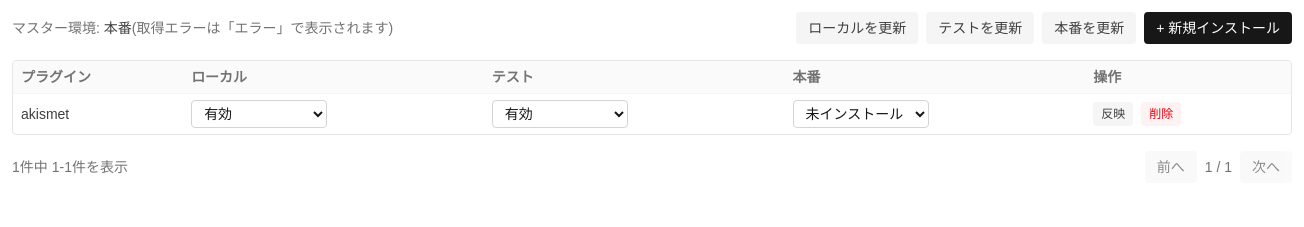
Test case: PluginThemeComparisonTable › 変更が無い状態で反映を押すとエラーを表示し、確認ダイアログを出さない
What coordinates should you click on to do the following:
click the button "反映"
I would click on:
 (1113, 114)
Its box is [1093, 102, 1133, 126].
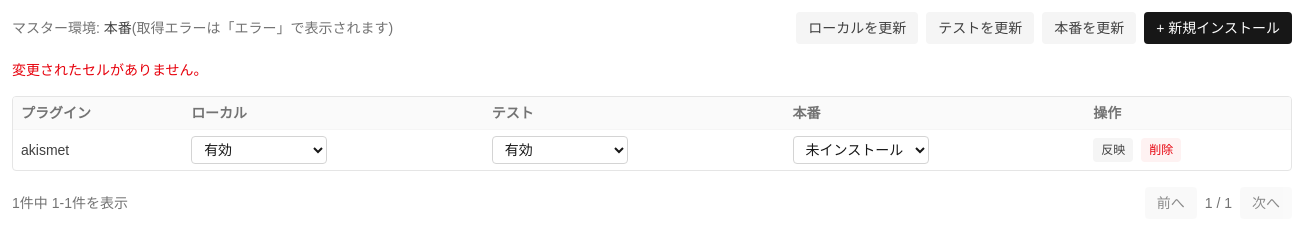
Result: the text "変更されたセルがありません。" is shown at [12, 62, 208, 78]
